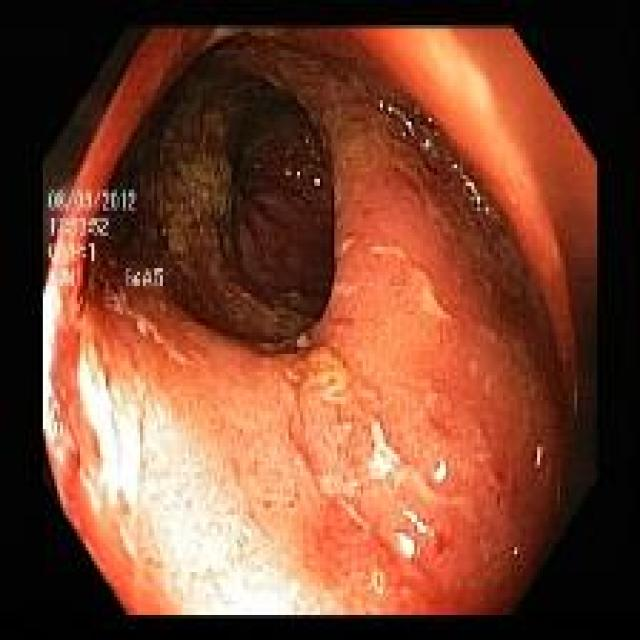ulcerative-colitis: (44, 28, 596, 614)
